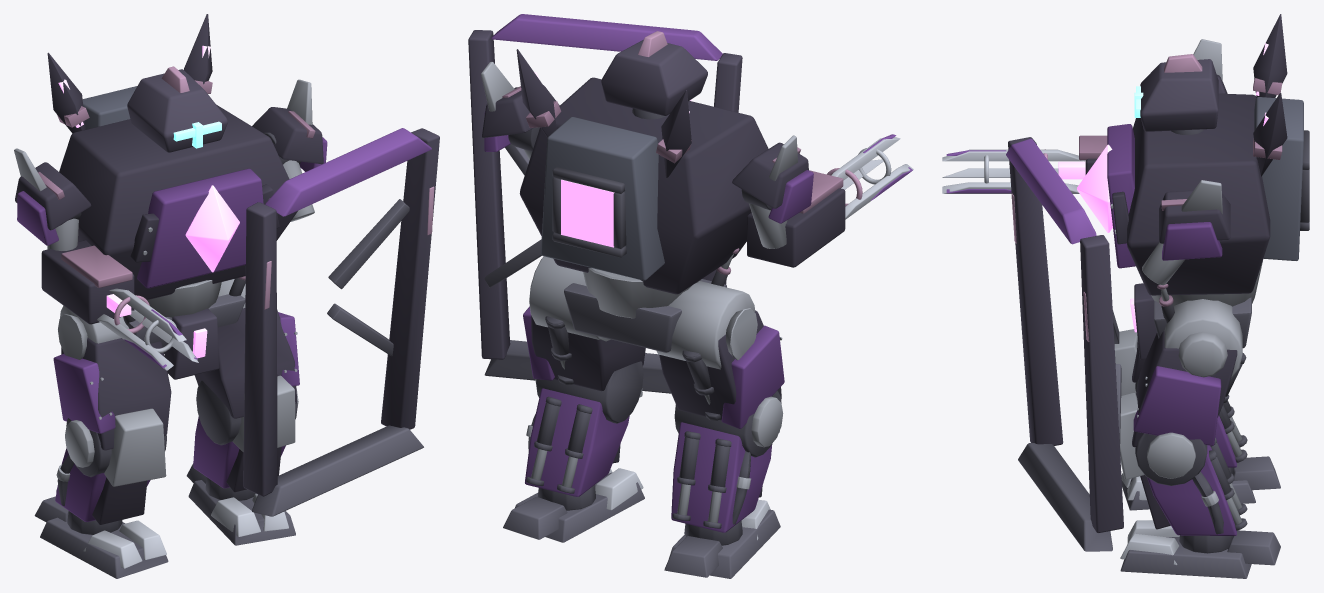
The model's file is abyss_sentinel.glb.
3 views of the same model, side by side, from view 1: azimuth 30°, elevation 25°; view 2: azimuth 150°, elevation 25°; view 3: azimuth 270°, elevation 25° (orthographic). The views are drawn at different scales.
Parts seen in each view (by area): view 1: ShieldFrame_ArmorAlloy, BodyGroup_ArmorAlloy, RightThigh_ArmorAlloy, RightArm_ArmorAlloy, RightShin_ArmorAlloy, RightFoot_ArmorAlloy, LeftShin_ArmorAlloy, HeadGroup_ArmorAlloy, LeftThigh_ArmorAlloy, LeftArm_ArmorAlloy, LeftFoot_ArmorAlloy, Pelvis_ArmorAlloy (+3 smaller); view 2: BodyGroup_ArmorAlloy, ShieldFrame_ArmorAlloy, RightThigh_ArmorAlloy, RightShin_ArmorAlloy, LeftShin_ArmorAlloy, RightArm_ArmorAlloy, LeftThigh_ArmorAlloy, HeadGroup_ArmorAlloy, LeftFoot_ArmorAlloy, RightFoot_ArmorAlloy, Pelvis_ArmorAlloy, LeftArm_ArmorAlloy (+2 smaller); view 3: BodyGroup_ArmorAlloy, ShieldFrame_ArmorAlloy, LeftThigh_ArmorAlloy, LeftShin_ArmorAlloy, LeftFoot_ArmorAlloy, LeftArm_ArmorAlloy, HeadGroup_ArmorAlloy, WeaponSlide_ArmorAlloy, RightShin_ArmorAlloy, RightFoot_ArmorAlloy, BodyGroup_A3_SingularityGlow, Pelvis_ArmorAlloy (+1 smaller).
Part boxes in pixels (left/top/right/bottom): ShieldFrame_ArmorAlloy: left=243, top=128, right=439, bottom=516; BodyGroup_ArmorAlloy: left=47, top=14, right=297, bottom=325; RightThigh_ArmorAlloy: left=53, top=305, right=171, bottom=450; RightArm_ArmorAlloy: left=14, top=148, right=134, bottom=324; RightShin_ArmorAlloy: left=55, top=408, right=166, bottom=524; RightFoot_ArmorAlloy: left=34, top=496, right=168, bottom=578; LeftShin_ArmorAlloy: left=193, top=375, right=298, bottom=492; HeadGroup_ArmorAlloy: left=127, top=66, right=227, bottom=152; LeftThigh_ArmorAlloy: left=194, top=279, right=299, bottom=418; LeftArm_ArmorAlloy: left=252, top=79, right=327, bottom=221; LeftFoot_ArmorAlloy: left=186, top=463, right=295, bottom=545; Pelvis_ArmorAlloy: left=128, top=294, right=245, bottom=379; BodyGroup_ArmorAlloy: left=516, top=49, right=768, bottom=318; ShieldFrame_ArmorAlloy: left=468, top=14, right=742, bottom=393; RightThigh_ArmorAlloy: left=656, top=281, right=784, bottom=428; RightShin_ArmorAlloy: left=671, top=390, right=783, bottom=532; LeftShin_ArmorAlloy: left=525, top=361, right=643, bottom=496; RightArm_ArmorAlloy: left=732, top=135, right=845, bottom=267; LeftThigh_ArmorAlloy: left=523, top=256, right=645, bottom=391; HeadGroup_ArmorAlloy: left=601, top=31, right=707, bottom=119; LeftFoot_ArmorAlloy: left=503, top=468, right=644, bottom=542; RightFoot_ArmorAlloy: left=664, top=499, right=780, bottom=578; Pelvis_ArmorAlloy: left=564, top=279, right=726, bottom=352; LeftArm_ArmorAlloy: left=481, top=62, right=559, bottom=160; BodyGroup_ArmorAlloy: left=1107, top=14, right=1309, bottom=323; ShieldFrame_ArmorAlloy: left=1006, top=137, right=1123, bottom=551; LeftThigh_ArmorAlloy: left=1132, top=299, right=1246, bottom=447; LeftShin_ArmorAlloy: left=1120, top=393, right=1247, bottom=535; LeftFoot_ArmorAlloy: left=1120, top=520, right=1280, bottom=578; LeftArm_ArmorAlloy: left=1142, top=180, right=1230, bottom=285; HeadGroup_ArmorAlloy: left=1140, top=54, right=1218, bottom=134; WeaponSlide_ArmorAlloy: left=942, top=149, right=1085, bottom=193; RightShin_ArmorAlloy: left=1114, top=329, right=1247, bottom=467; RightFoot_ArmorAlloy: left=1121, top=456, right=1280, bottom=510; BodyGroup_A3_SingularityGlow: left=1058, top=43, right=1268, bottom=232; Pelvis_ArmorAlloy: left=1134, top=283, right=1251, bottom=359.
Size of the model in its own units: 1.88 by 2.32 by 1.63.
